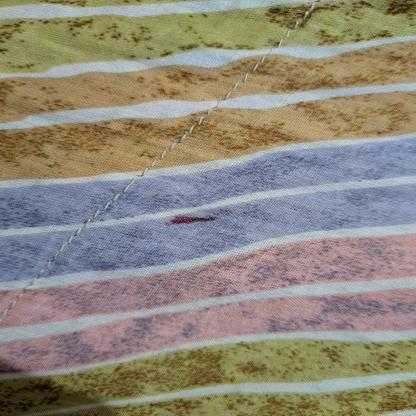spot: (158, 211, 229, 228)
